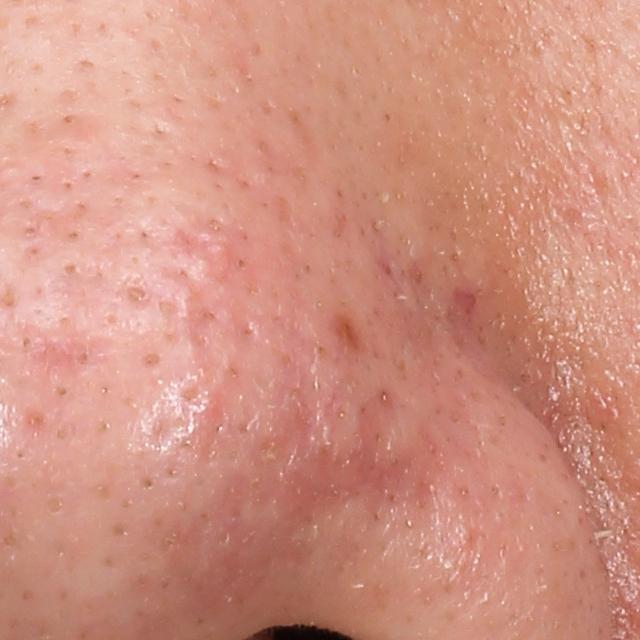comedo: (122, 282, 153, 311), (58, 108, 83, 133)
